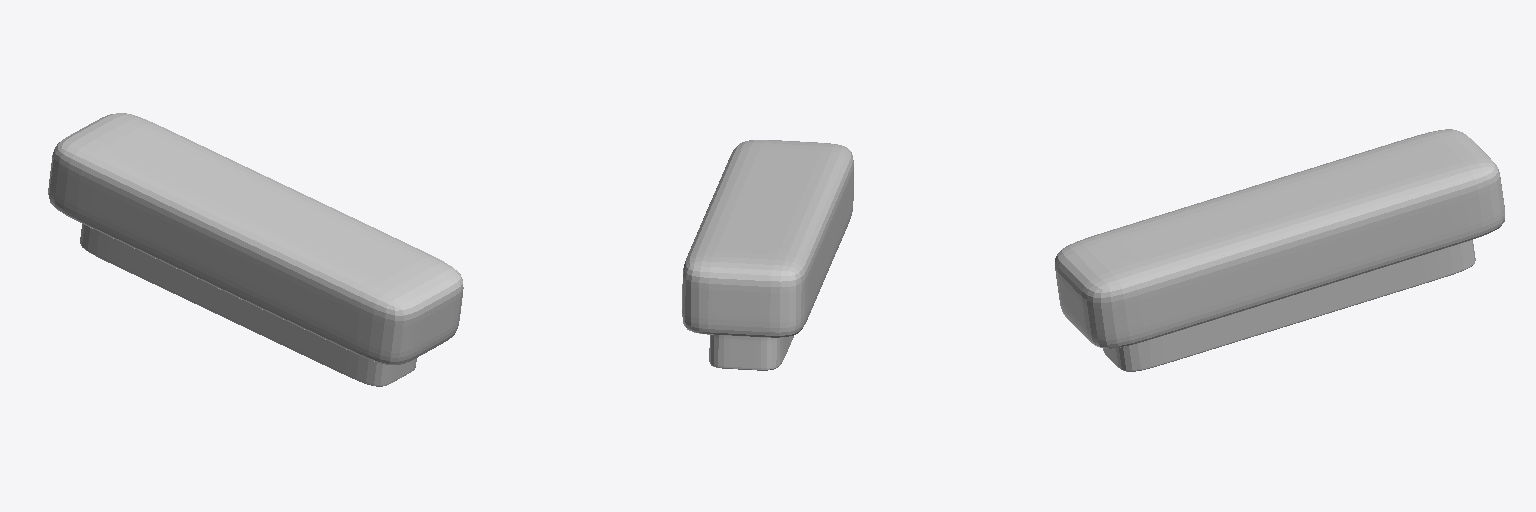
File: RightObstacle.obj
3 renders of one model, left to right at view 1: azimuth 30°, elevation 25°; view 2: azimuth 150°, elevation 25°; view 3: azimuth 270°, elevation 25°, orthographic.
Visible parts, largest first — view 1: Cube.005_Cube.010; view 2: Cube.005_Cube.010; view 3: Cube.005_Cube.010.
Part boxes in pixels (x1,y1,x2,y2): Cube.005_Cube.010: (48,113,463,386); Cube.005_Cube.010: (682,140,853,370); Cube.005_Cube.010: (1055,129,1504,371).
Bounding box in the file's own units: 0.5172 × 0.3224 × 0.8615.